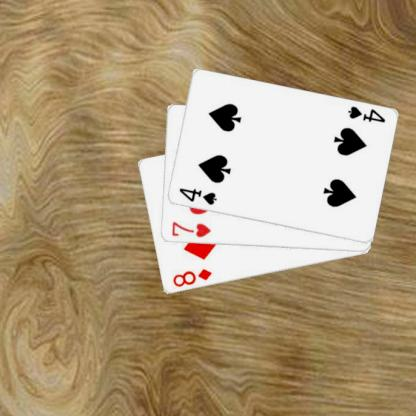4S: (344, 104, 387, 124), (176, 186, 218, 206)
7H: (169, 219, 212, 239)
8D: (170, 266, 213, 289)
